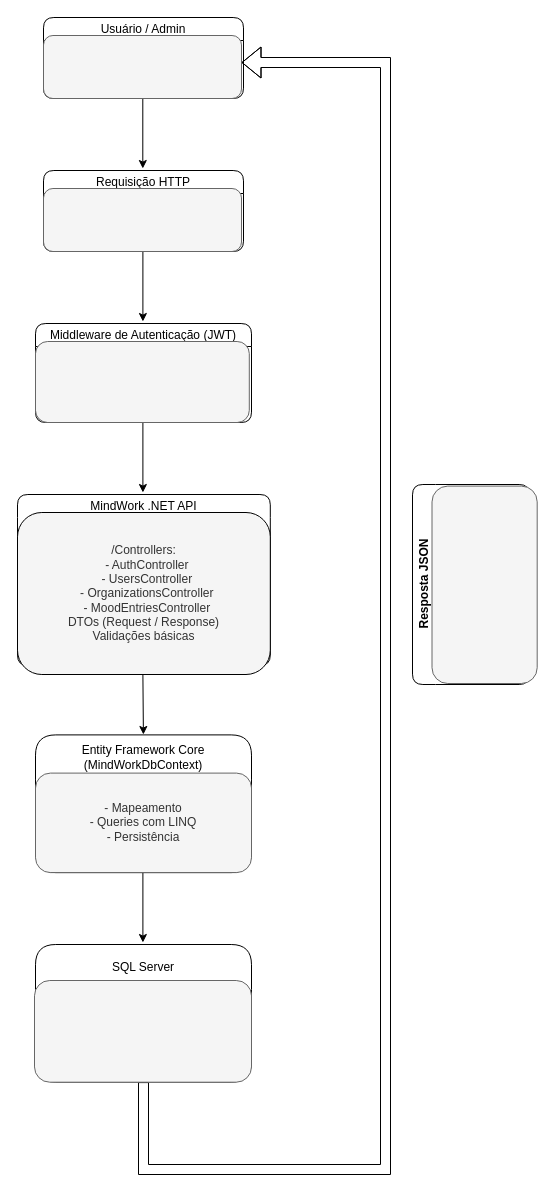
Image size: 555x1192. Some labels were removed from this diagram. Here are the shapes that lost their labels. From the top down, the centre of each, then its label:
[142,66]: (Frontend, Postman, Mobile)
[142,220]: (REST, JSON, /api/v1)
[141,381]: - Valida token - Verifica role (Admin / Employee)
[484,584]: (Status code + Body)
[143,1031]: Tabelas: - Users - Organizations - MoodEntries
